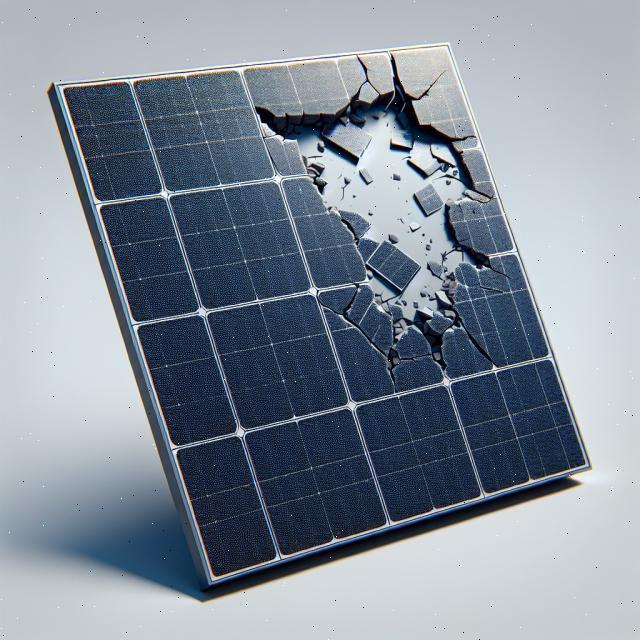Anomaly Solar Panel: (58, 0, 588, 580)
Structural Damage: (228, 27, 560, 406), (311, 273, 388, 376), (454, 316, 501, 373), (353, 52, 380, 97), (415, 66, 447, 100), (490, 268, 513, 281), (478, 283, 503, 294), (450, 132, 476, 142)
